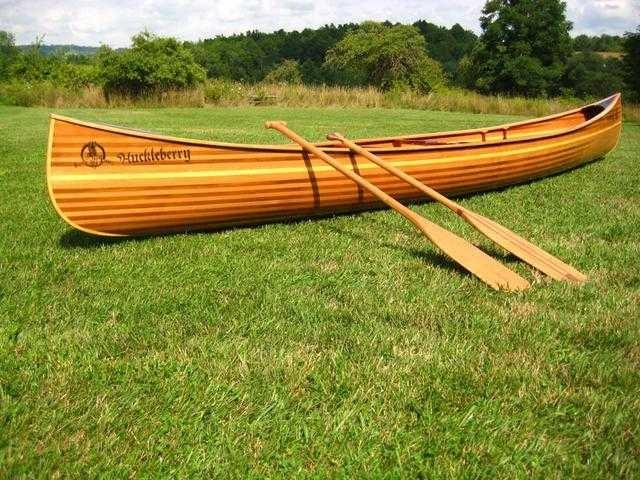kayak: (42, 94, 631, 244)
